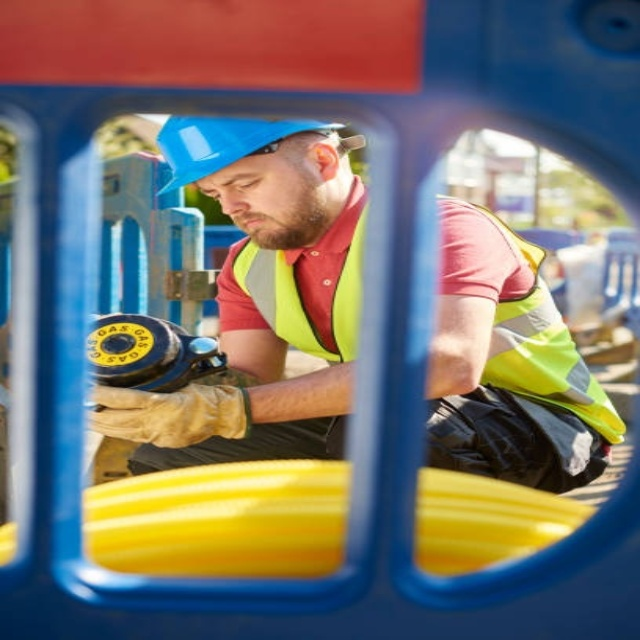Guantes: (86, 381, 250, 448)
Sin_gafas: (195, 169, 270, 203)
Sin_mascara: (224, 210, 285, 246)
